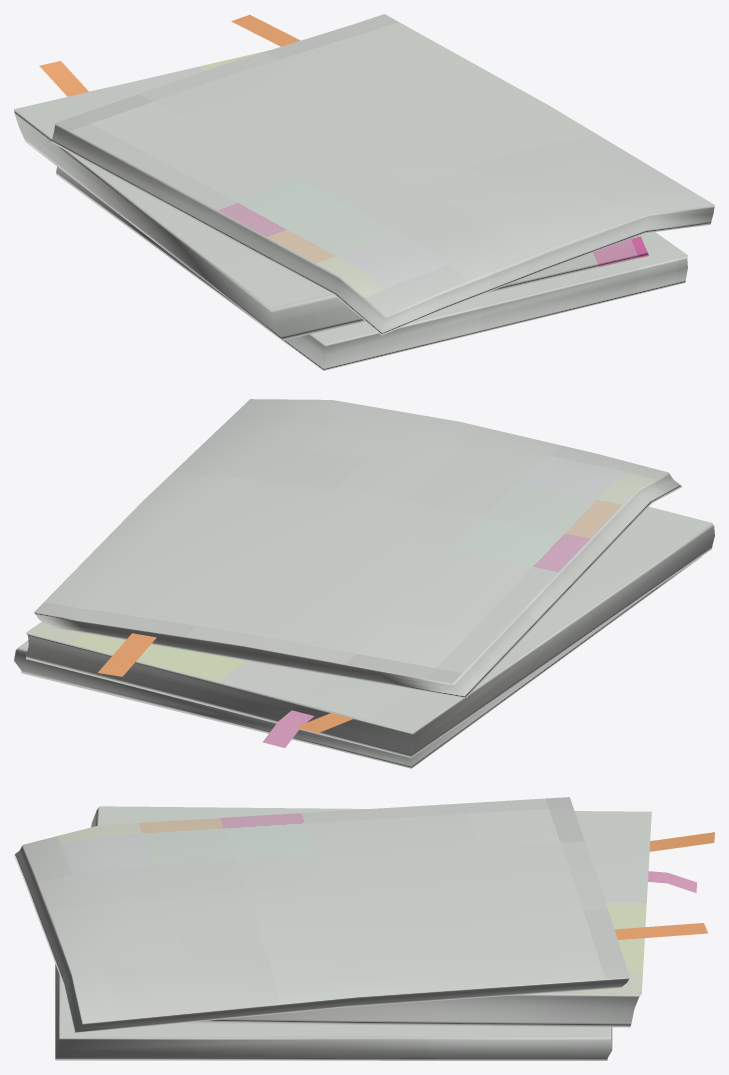
Rendered from a_sch_entrance01_obj_paper01.gltf.
3 renders of one model, top to bottom at view 1: azimuth 30°, elevation 25°; view 2: azimuth 150°, elevation 25°; view 3: azimuth 270°, elevation 25°, orthographic. The views are drawn at different scales.
Visible parts, largest first — view 1: a_sch_entrance01_obj_paper_mesh_shape:a_sch_office02_paper01; view 2: a_sch_entrance01_obj_paper_mesh_shape:a_sch_office02_paper01; view 3: a_sch_entrance01_obj_paper_mesh_shape:a_sch_office02_paper01.
Boxes of the visible parts, bbox=[...] form: a_sch_entrance01_obj_paper_mesh_shape:a_sch_office02_paper01: bbox=[14, 14, 714, 370]; a_sch_entrance01_obj_paper_mesh_shape:a_sch_office02_paper01: bbox=[14, 399, 714, 768]; a_sch_entrance01_obj_paper_mesh_shape:a_sch_office02_paper01: bbox=[14, 797, 714, 1060].
Bounding box in the file's own units: 0.3559 × 0.0603 × 0.4804.
1 material, 1 textured.
